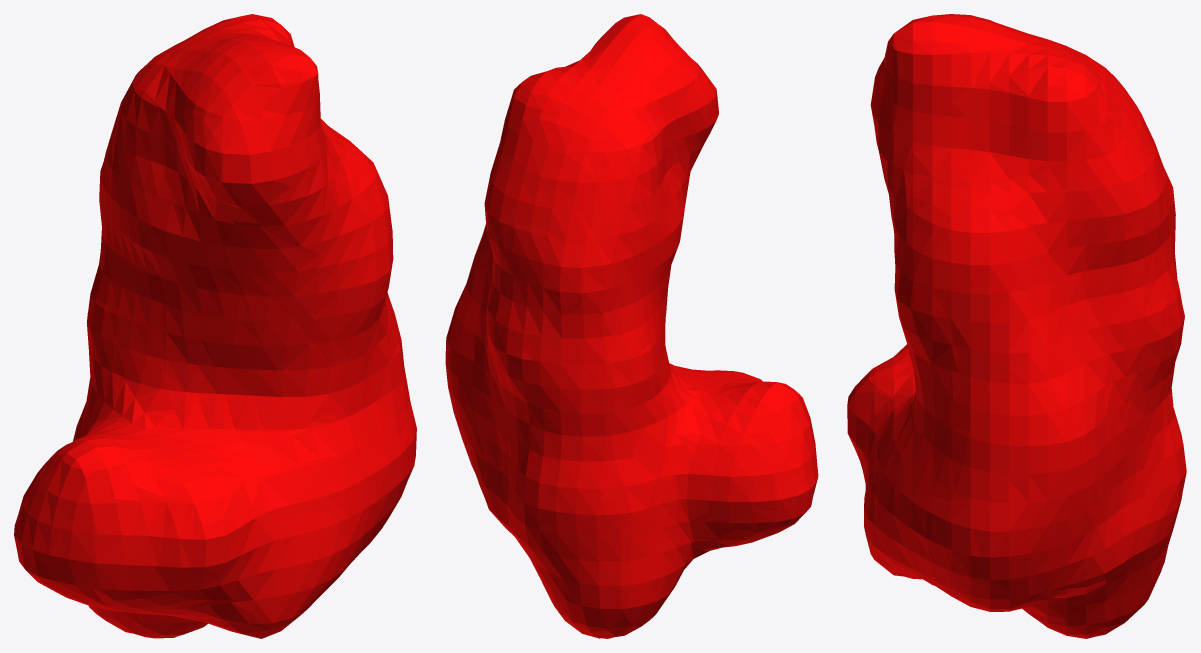
The model's file is ydcH_coarse.dae.
3 renders of one model, left to right at view 1: azimuth 30°, elevation 25°; view 2: azimuth 150°, elevation 25°; view 3: azimuth 270°, elevation 25°, orthographic. The views are drawn at different scales.
Parts seen in each view (by area): view 1: ydcH; view 2: ydcH; view 3: ydcH.
Boxes of the visible parts, x1=… form: ydcH: x1=14, y1=14, x2=416, y2=638; ydcH: x1=445, y1=14, x2=818, y2=638; ydcH: x1=847, y1=14, x2=1186, y2=638.
Size of the model in its own units: 33.48 by 51.92 by 25.26.
